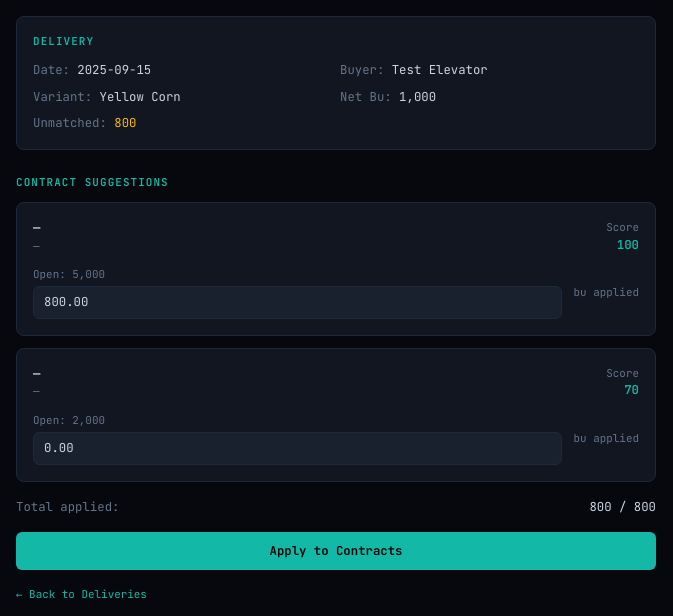
Scenario: ApplyDeliveryClient › submit is disabled when total appliedBushels input exceeds unappliedBushels
Step 1. Replace the text in the number field named "Applied bushels for contract con-1" with "600" → (297, 303), box [33,286,562,319]
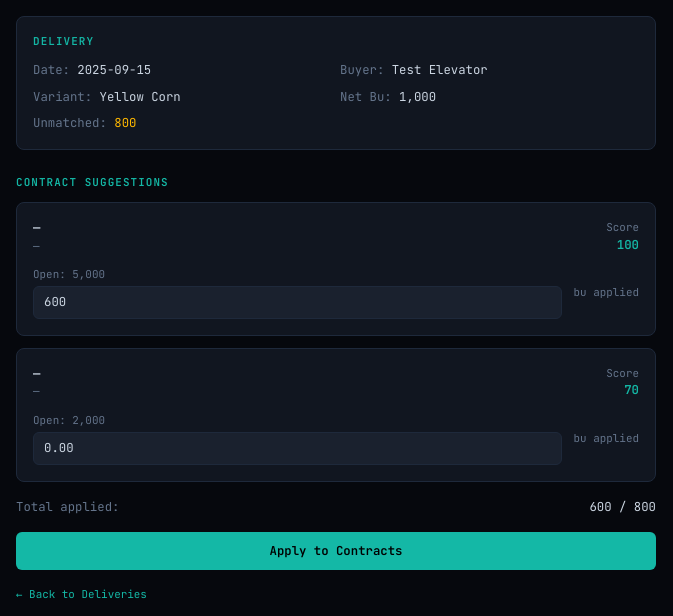
Step 2. Replace the text in the number field named "Applied bushels for contract con-2" with "300" → (297, 448), box [33,432,562,465]
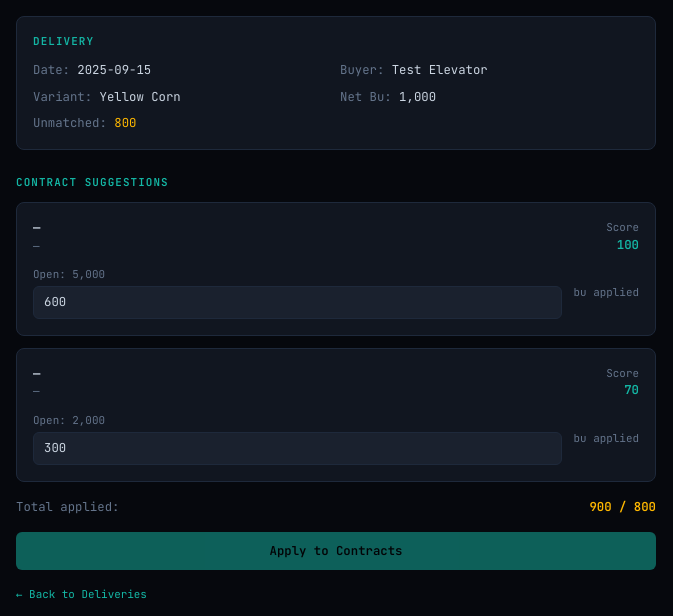
Result: the button "Apply to Contracts" is disabled at [16,532,656,570]
